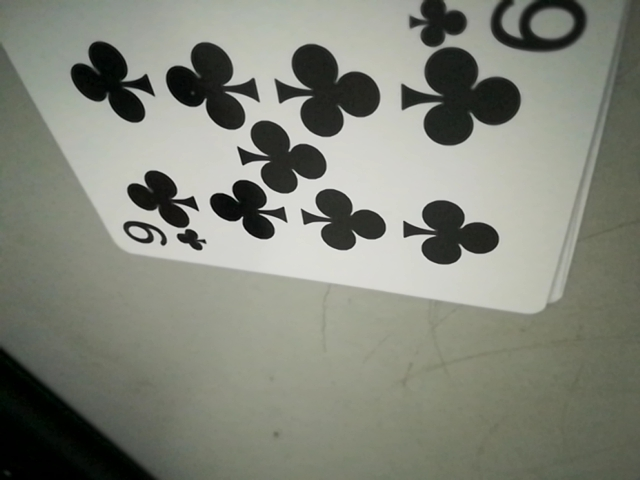mh 9: (407, 0, 593, 52), (118, 221, 208, 258)
